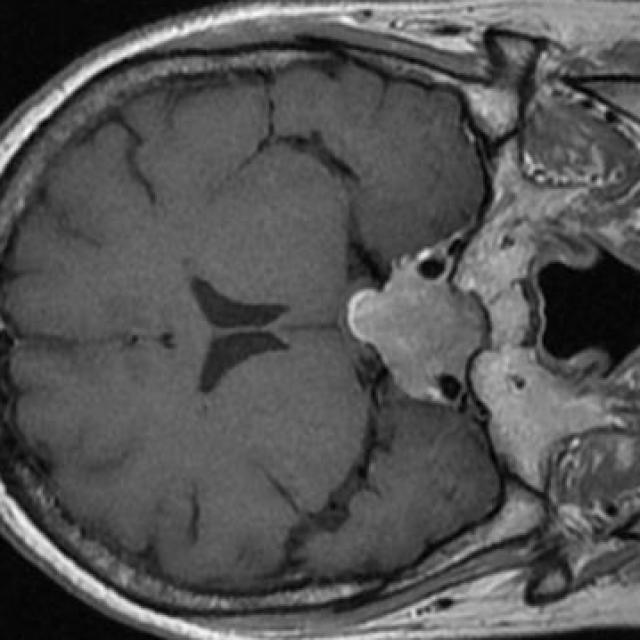pituitary: (348, 266, 481, 403)
